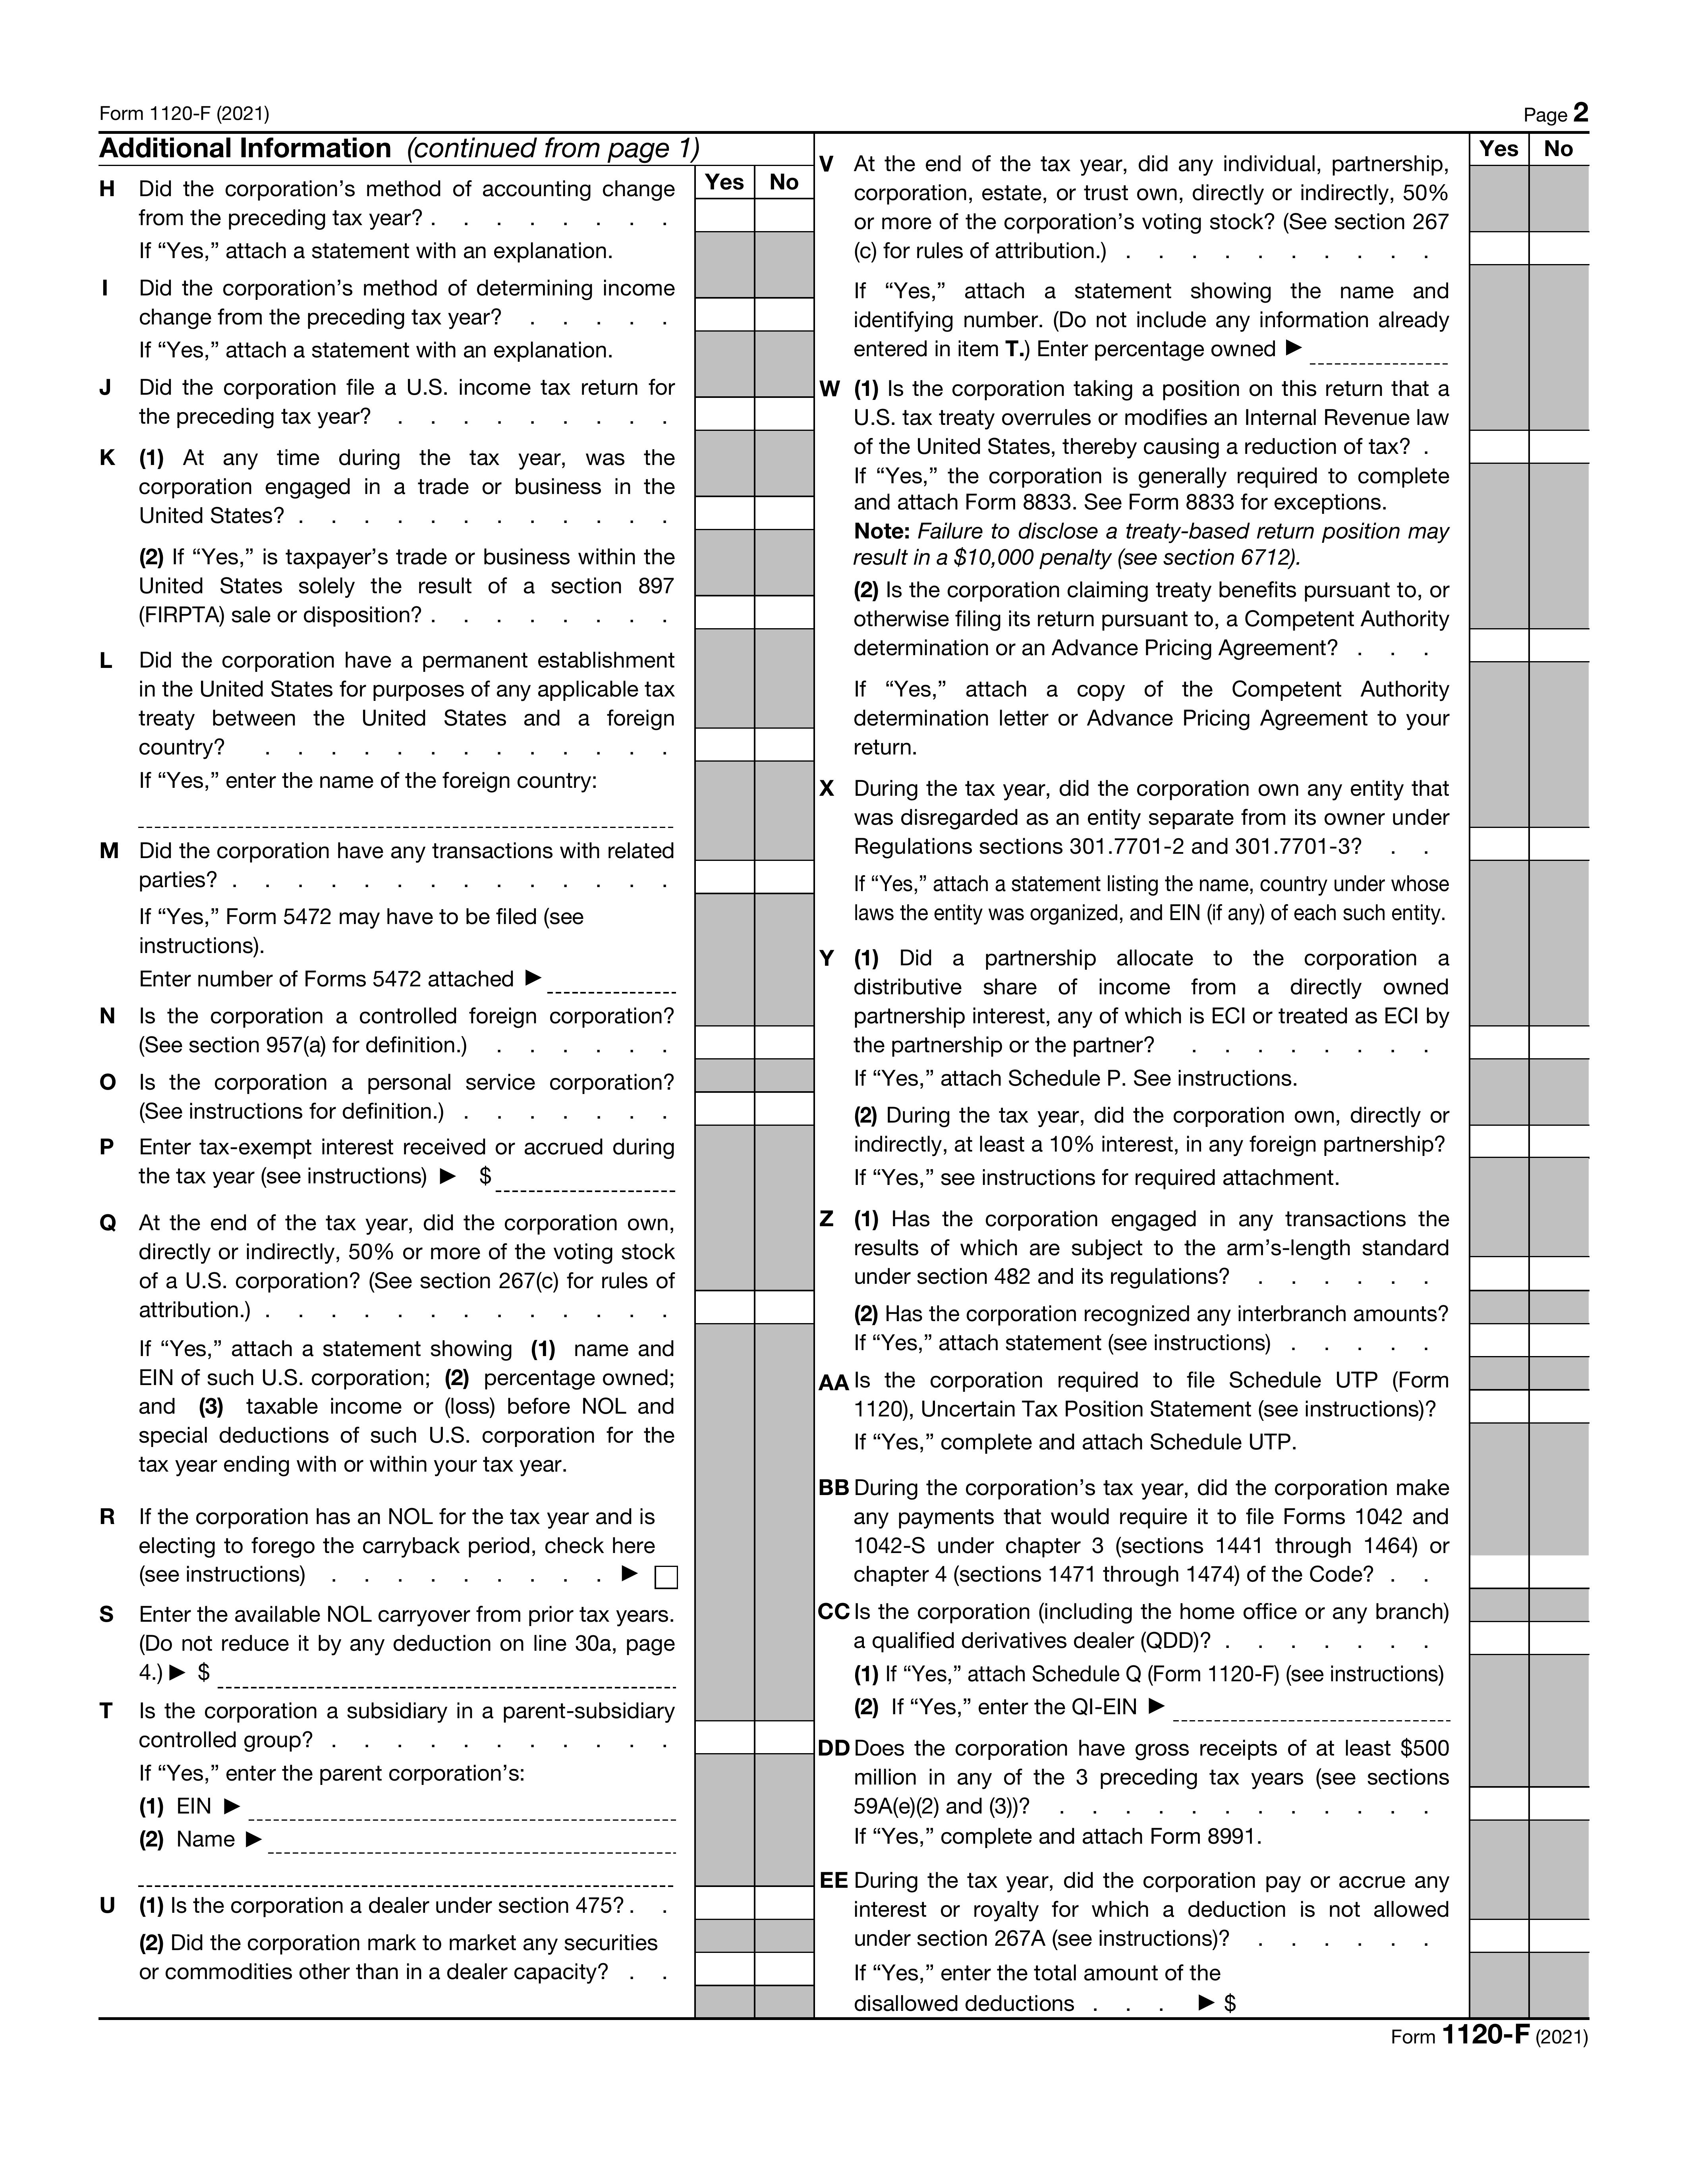table: (812, 138, 1594, 2024), (73, 165, 816, 2028)
